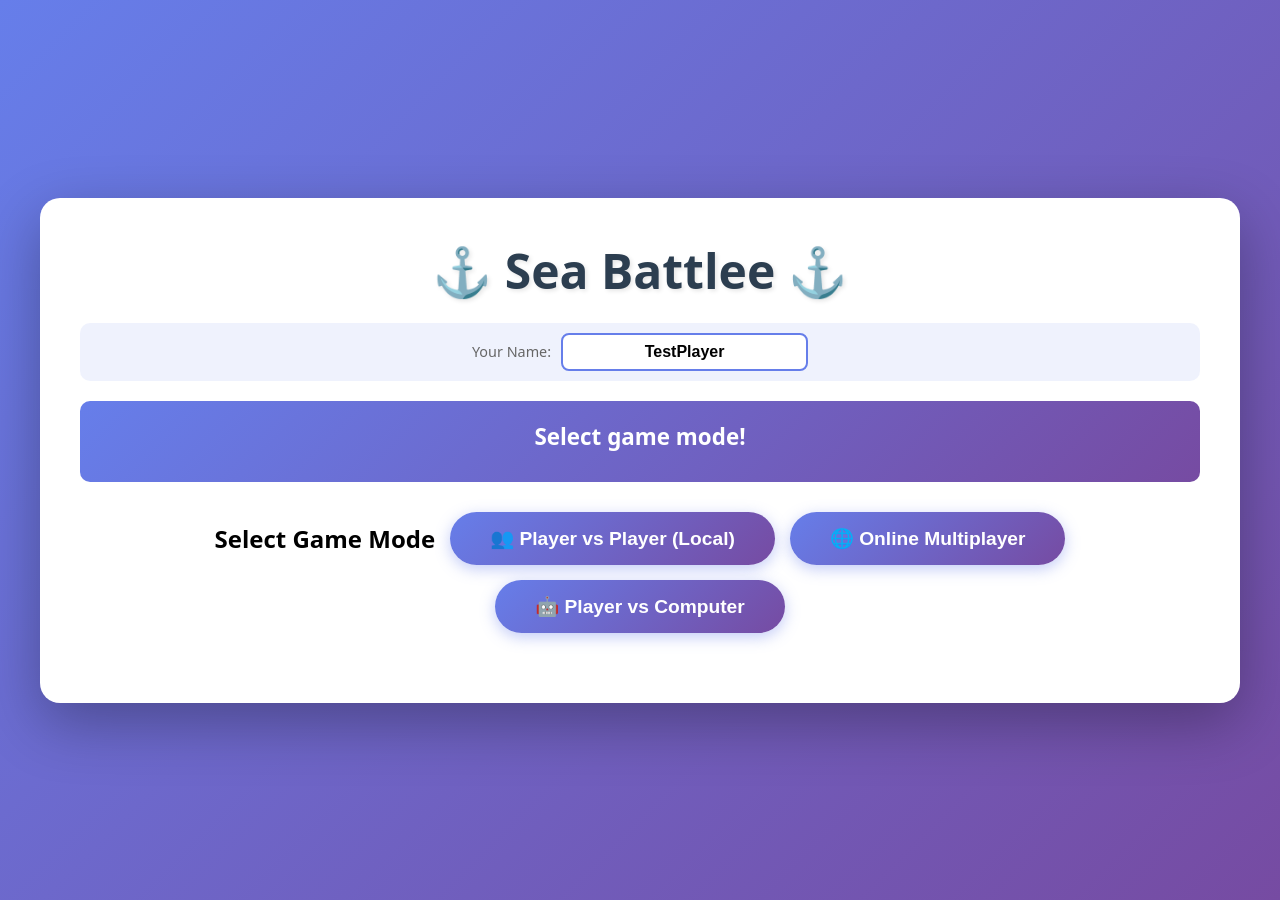
Test case: App › starts local game when clicking local mode button
What coordinates should you click on to do the following:
click the button "👥 Player vs Player (Local)"
I would click on:
 (612, 538)
Its box is [450,512,775,564].
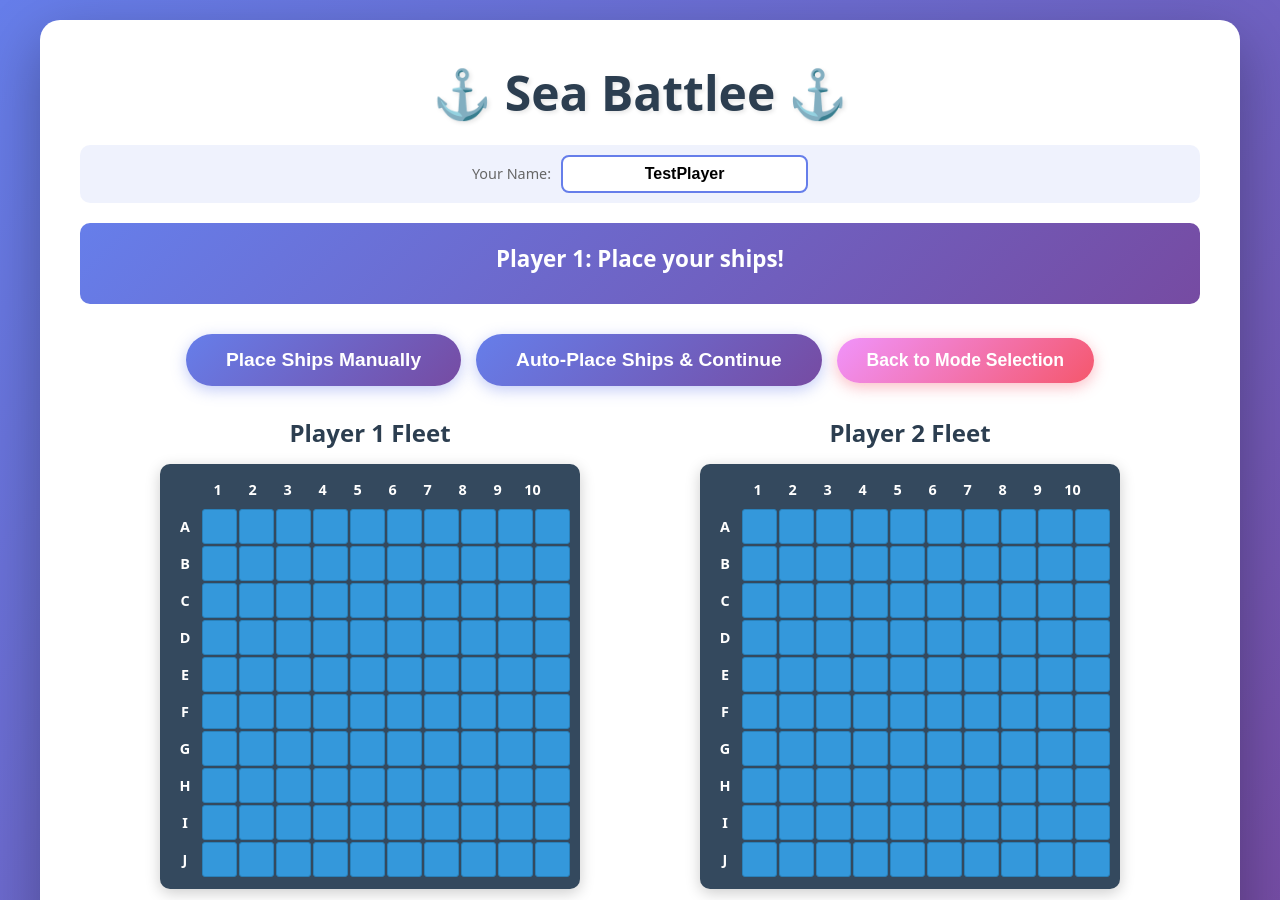
Now the text "Select game mode" is gone
